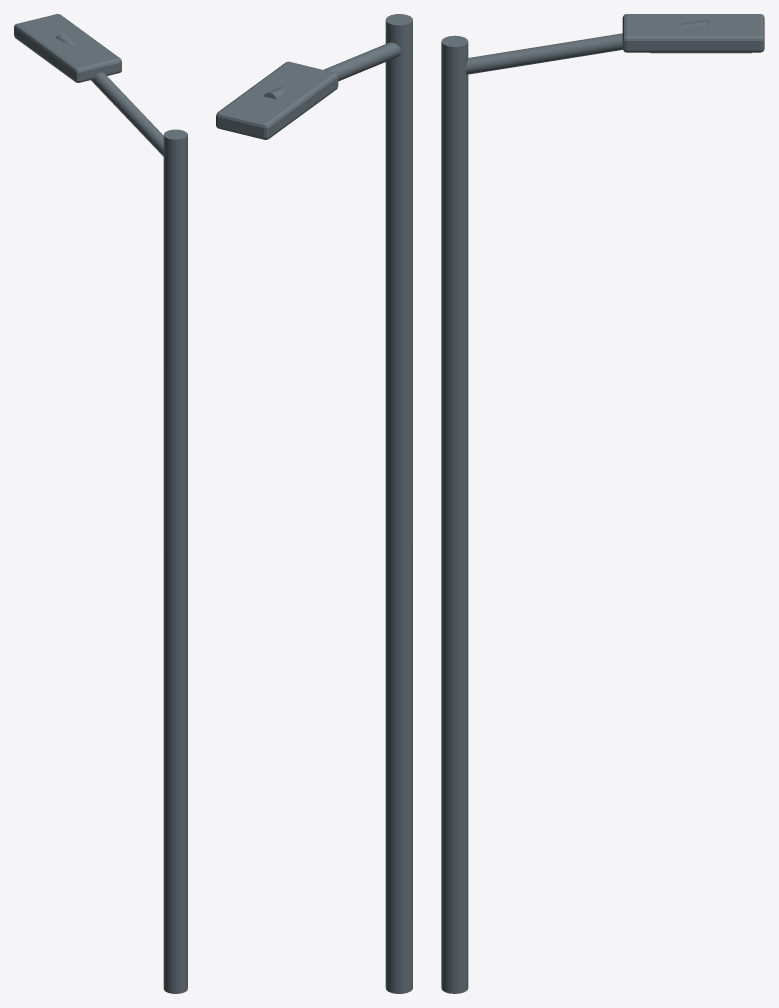
File: Streetlamp.fbx
3 views of the same model, side by side, from view 1: azimuth 30°, elevation 25°; view 2: azimuth 150°, elevation 25°; view 3: azimuth 270°, elevation 25° (orthographic). The views are drawn at different scales.
Parts seen in each view (by area): view 1: Body.040; view 2: Body.040; view 3: Body.040.
Part boxes in pixels (<box>): Body.040: <box>14,14,187,993</box>; Body.040: <box>216,14,412,993</box>; Body.040: <box>441,14,764,993</box>.
Size of the model in its own units: 0.4 by 7.15 by 2.17.
